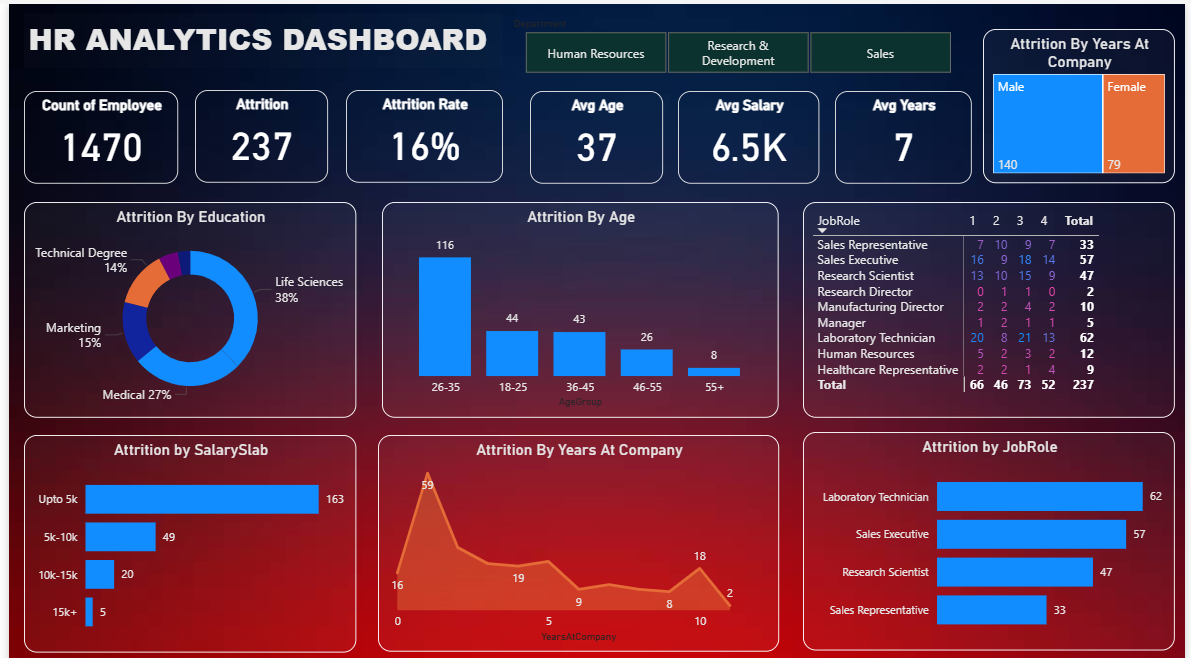

Layout of this report page (visuals, bound fields, positions):
{"tool":"powerbi","page":{"name":"Page 1","canvas":[1280,720],"ordinal":0},"visuals":[{"type":"cardVisual","title":"Count of Employee","fields":{"Data":["Sum(HR_Analytics.EmployeeCount)"]},"box":[16.6,94.3,168.3,100.7],"z":0},{"type":"cardVisual","title":"Attrition","fields":{"Data":["Sum(HR_Analytics.AttritionCount)"]},"box":[203,94,145,101],"z":1000},{"type":"cardVisual","title":"Attrition Rate","fields":{"Data":["HR_Analytics.AttritionRate"]},"box":[367,94,171,101],"z":2000},{"type":"cardVisual","title":"Avg Age","fields":{"Data":["Avg(HR_Analytics.Age)"]},"box":[567.3,94.3,145.3,100.7],"z":3000},{"type":"cardVisual","title":"Avg Salary","fields":{"Data":["Avg(HR_Analytics.MonthlyIncome)"]},"box":[729.2,94.3,154.3,100.7],"z":4000},{"type":"cardVisual","title":"Avg Years","fields":{"Data":["Avg(HR_Analytics.YearsAtCompany)"]},"box":[900.1,94.3,149.2,100.7],"z":5000},{"type":"donutChart","title":"Attrition By Education","fields":{"Category":["HR_Analytics.EducationField"],"Y":["Sum(HR_Analytics.AttritionCount)"]},"box":[16.6,215.5,362.1,234.6],"z":6000},{"type":"columnChart","title":"Attrition By Age","fields":{"Category":["HR_Analytics.AgeGroup"],"Y":["Sum(HR_Analytics.AttritionCount)"]},"box":[406.7,215.5,432.2,234.6],"z":7000},{"type":"pivotTable","fields":{"Rows":["HR_Analytics.JobRole"],"Columns":["HR_Analytics.JobSatisfaction"],"Values":["Sum(HR_Analytics.AttritionCount)"]},"box":[864.4,215.5,405.4,234.6],"z":8000},{"type":"barChart","title":"Attrition by SalarySlab","fields":{"Category":["HR_Analytics.SalarySlab"],"Y":["Sum(HR_Analytics.AttritionCount)"]},"box":[16.6,469.2,362.1,237.1],"z":9000},{"type":"barChart","title":"Attrition by JobRole","fields":{"Category":["HR_Analytics.JobRole"],"Y":["Sum(HR_Analytics.AttritionCount)"]},"box":[864.4,466.6,405.4,238.4],"z":10000},{"type":"lineChart","title":"Attrition By Years At Company","fields":{"Category":["HR_Analytics.YearsAtCompany"],"Y":["Sum(HR_Analytics.AttritionCount)"]},"box":[401.6,469.2,437.3,235.9],"z":11000},{"type":"treemap","title":"Attrition By Years At Company","fields":{"Group":["HR_Analytics.Gender","HR_Analytics.YearsAtCompany"],"Values":["Sum(HR_Analytics.AttritionCount)"]},"box":[1060.7,26.8,209.1,168.3],"z":12000},{"type":"slicer","fields":{"Values":["HR_Analytics.Department"]},"box":[536.7,10.2,512.5,70.1],"z":13000},{"type":"textbox","box":[16.6,10.2,521.4,59.9],"z":14000}]}

Visuals, with their boxes in screenshot pixels (x1, y1, x2, y2), scaled from the page's 1280x720 canvas onto the 1191x658 screenshot:
"Count of Employee" cardVisual: [15, 86, 172, 178]
"Attrition" cardVisual: [189, 86, 324, 178]
"Attrition Rate" cardVisual: [341, 86, 501, 178]
"Avg Age" cardVisual: [528, 86, 663, 178]
"Avg Salary" cardVisual: [678, 86, 822, 178]
"Avg Years" cardVisual: [838, 86, 976, 178]
"Attrition By Education" donutChart: [15, 197, 352, 411]
"Attrition By Age" columnChart: [378, 197, 781, 411]
pivotTable - HR_Analytics.JobRole x HR_Analytics.JobSatisfaction: [804, 197, 1182, 411]
"Attrition by SalarySlab" barChart: [15, 429, 352, 645]
"Attrition by JobRole" barChart: [804, 426, 1182, 644]
"Attrition By Years At Company" lineChart: [374, 429, 781, 644]
"Attrition By Years At Company" treemap: [987, 24, 1182, 178]
slicer - HR_Analytics.Department: [499, 9, 976, 73]
textbox: [15, 9, 501, 64]
